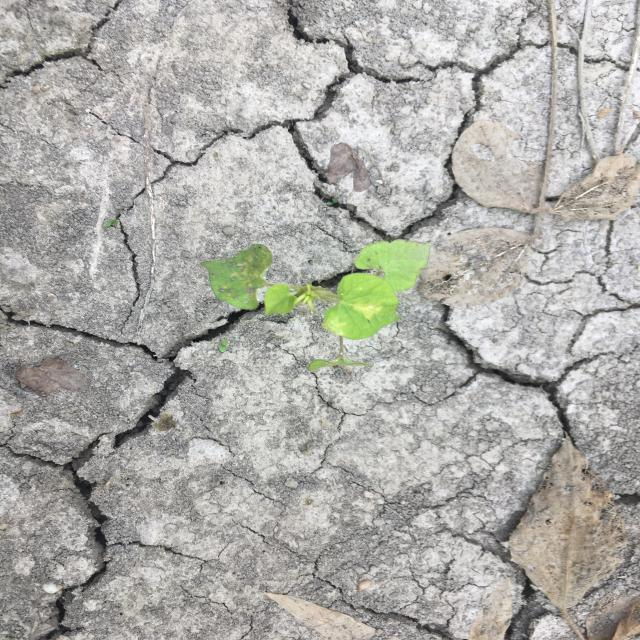MorningGlory: (199, 238, 435, 374)
